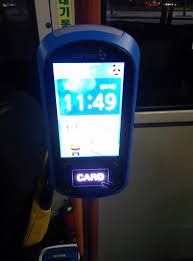terminal: (34, 23, 142, 203)
